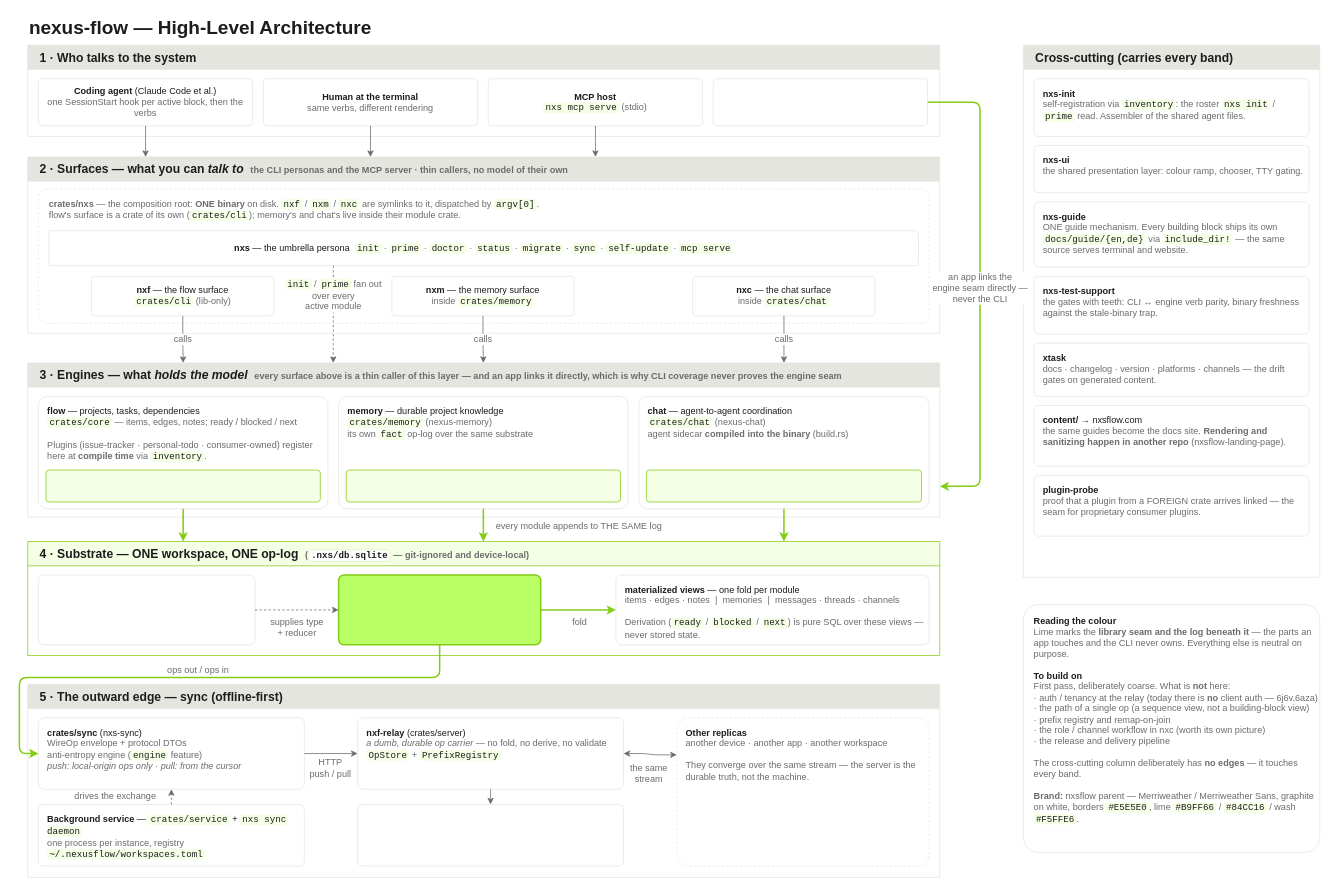
Image size: 1333x891. Some labels were removed from this diagram. Each missing label, with the centre of its shape:
Backends: SQLite · Postgres (both shipped) DynamoDB (supported source build): pixel 490 835
Embedding apps manufakt.io · nexflow.it (Tauri): pixel 820 102
engine seam crates/facade · the only SemVer contract with a gate: pixel 182 485
engine seam nexus_chat::Engine · no SemVer gate yet: pixel 784 485
engine seam nexus_memory::Engine · no SemVer gate yet: pixel 483 485
nxs-foundation Op · Store · the Reducer trait workspace resolution, schema spine: pixel 146 609
ops — append-only the single source of truth CRDT: LWW + OR-set + tombstones: pixel 439 609
